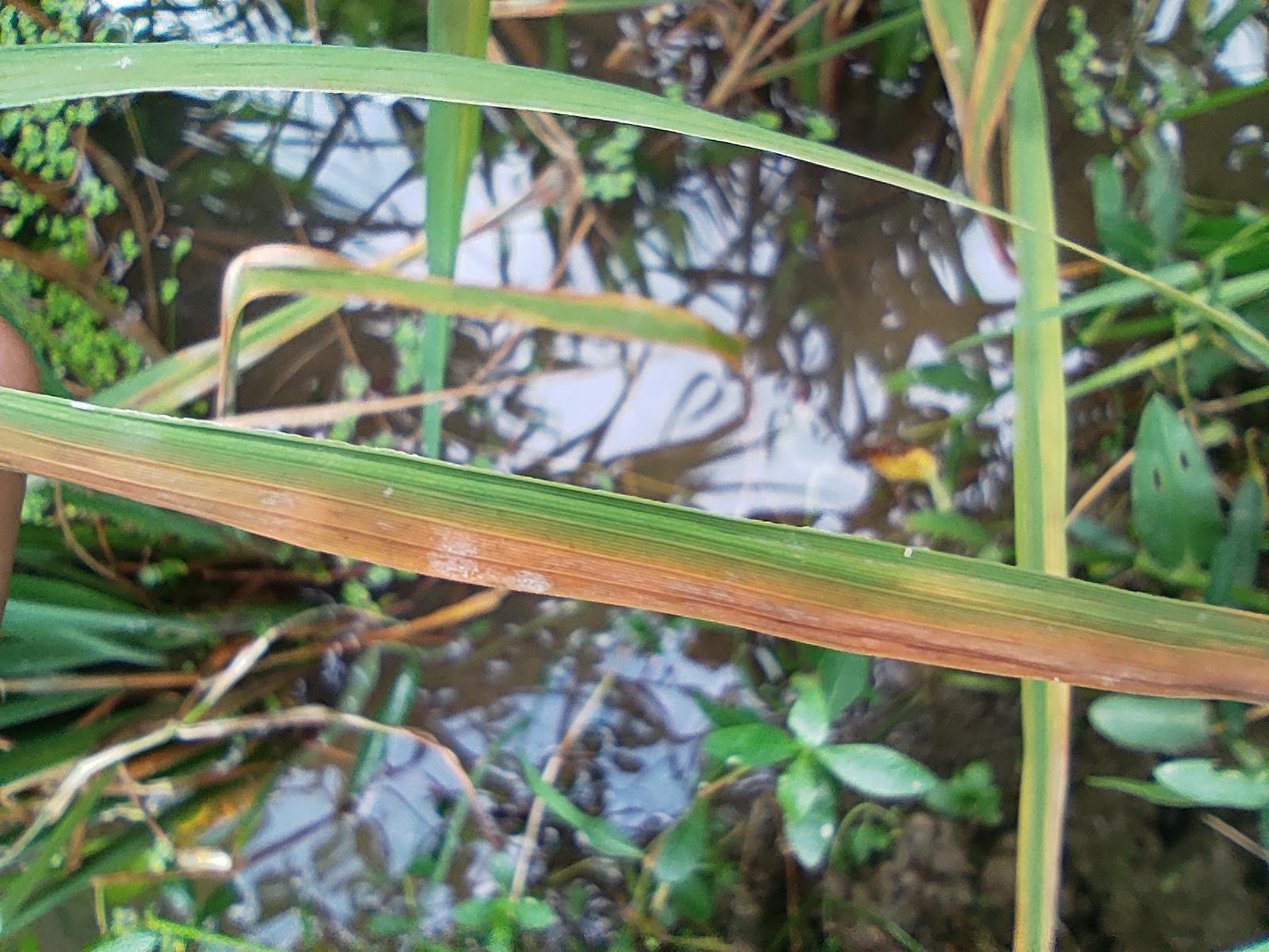BLB: (331, 0, 700, 951)
LEAF: (330, 0, 752, 951)
